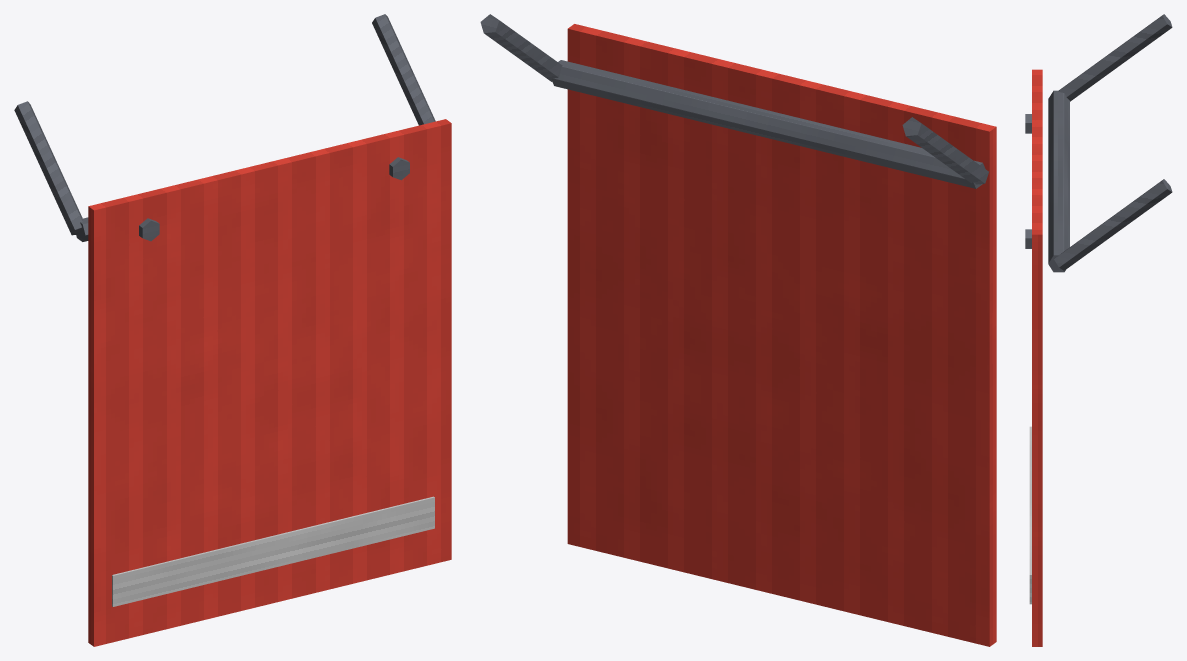
File: para_barro_n4.glb
The picture shows the model from 3 angles, left to right: view 1: azimuth 30°, elevation 25°; view 2: azimuth 150°, elevation 25°; view 3: azimuth 270°, elevation 25°; orthographic projection. The views are drawn at different scales.
Visible parts, largest first — view 1: para_barro_n4; view 2: para_barro_n4; view 3: para_barro_n4.
Part boxes in pixels (bbox=[...]): para_barro_n4: bbox=[14, 14, 451, 646]; para_barro_n4: bbox=[480, 14, 996, 646]; para_barro_n4: bbox=[1025, 14, 1172, 646].
Bounding box in the file's own units: 0.3745 × 0.4759 × 0.1358.
3 materials, 3 textured.
